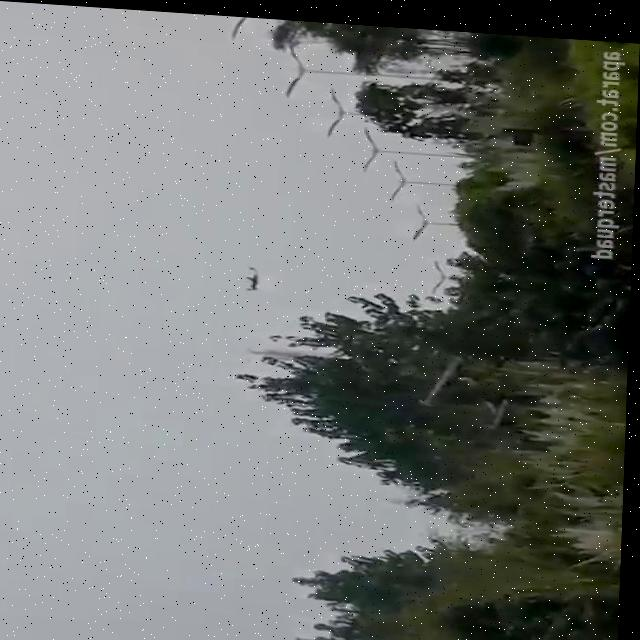drone: (235, 258, 266, 289)
